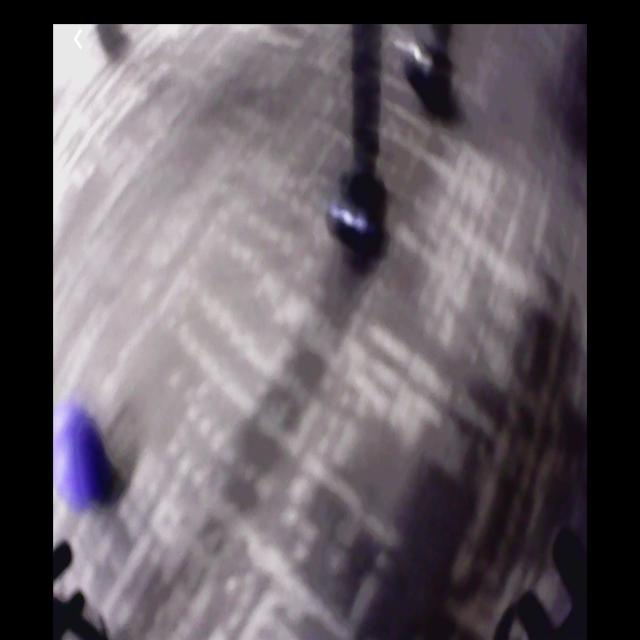ball: (56, 408, 111, 508)
